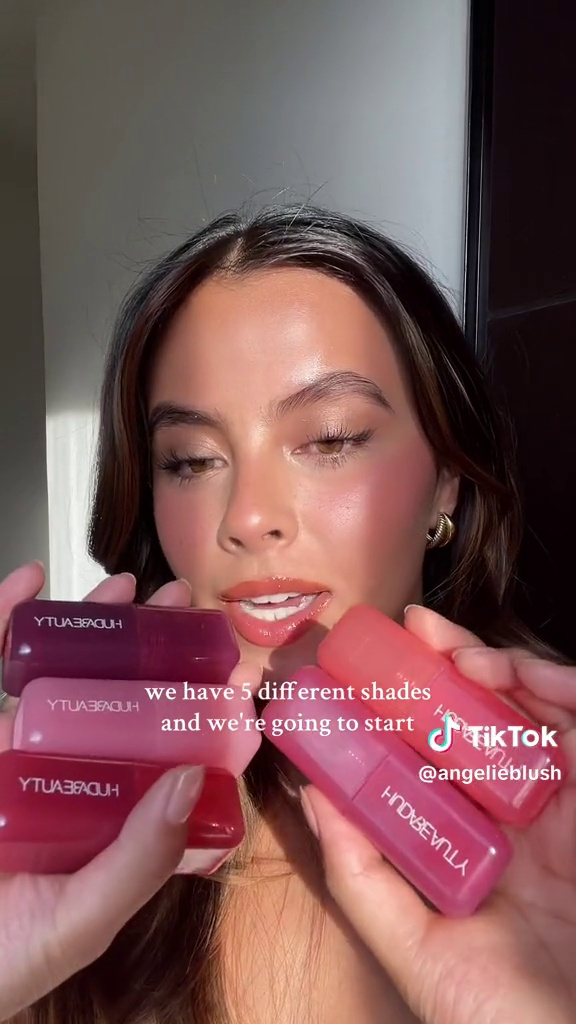train' :'yolo_data/train/images',: (261, 591, 573, 926), (1, 595, 259, 900)
